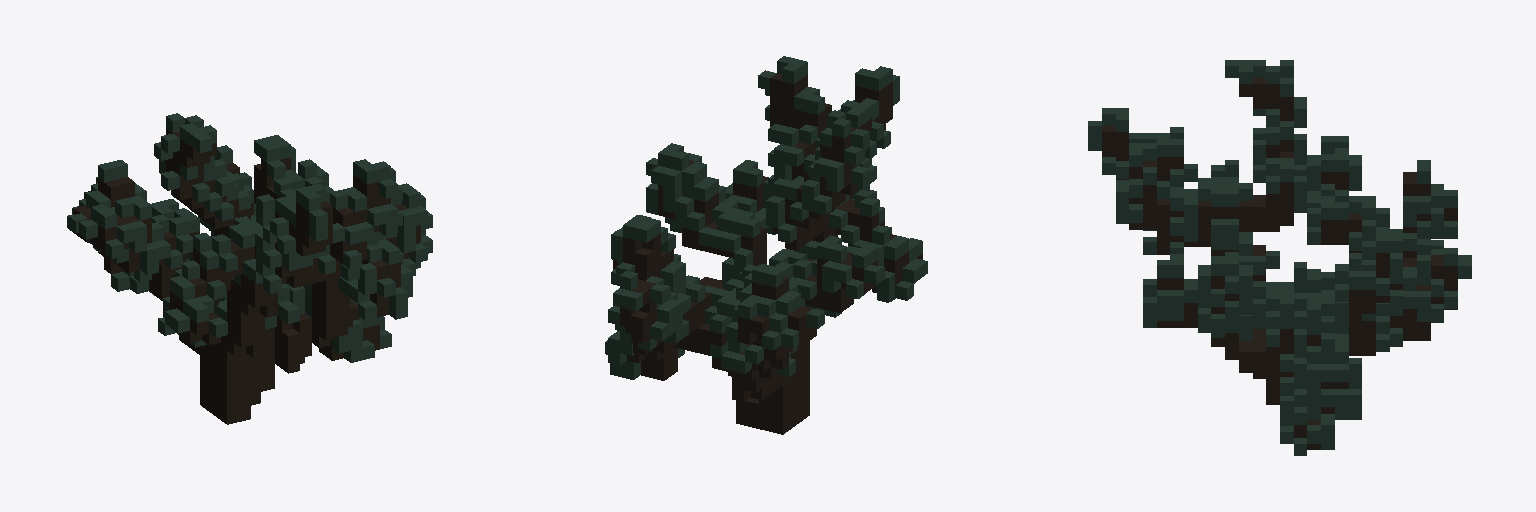
3 renders of one model, left to right at view 1: azimuth 30°, elevation 25°; view 2: azimuth 150°, elevation 25°; view 3: azimuth 270°, elevation 25°, orthographic.
Visible parts, largest first — view 1: object 1; view 2: object 1; view 3: object 1.
Part boxes in pixels (x1,y1,x2,y2): object 1: (67, 113, 432, 424); object 1: (605, 56, 927, 434); object 1: (1088, 60, 1471, 455).
Bounding box in the file's own units: 2.4 × 2.5 × 2.8.
1 materials, 1 textured.